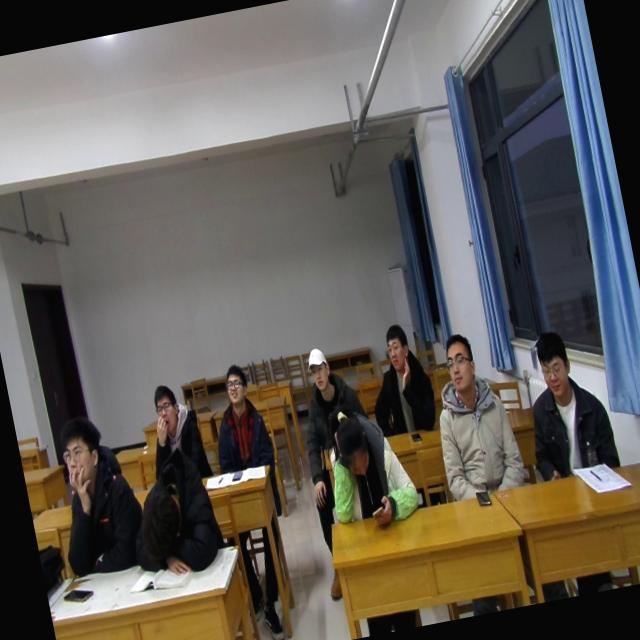bow: (114, 441, 232, 586), (314, 396, 426, 538)
down: (325, 406, 379, 488)
lookup: (49, 404, 113, 498), (526, 328, 582, 408), (436, 324, 482, 401), (376, 316, 416, 378), (146, 378, 184, 443), (300, 341, 336, 396), (216, 356, 250, 408)
sit: (418, 323, 533, 507), (39, 404, 154, 582), (508, 318, 626, 488), (357, 317, 445, 443), (198, 356, 278, 476), (286, 337, 366, 455), (136, 377, 215, 490)
